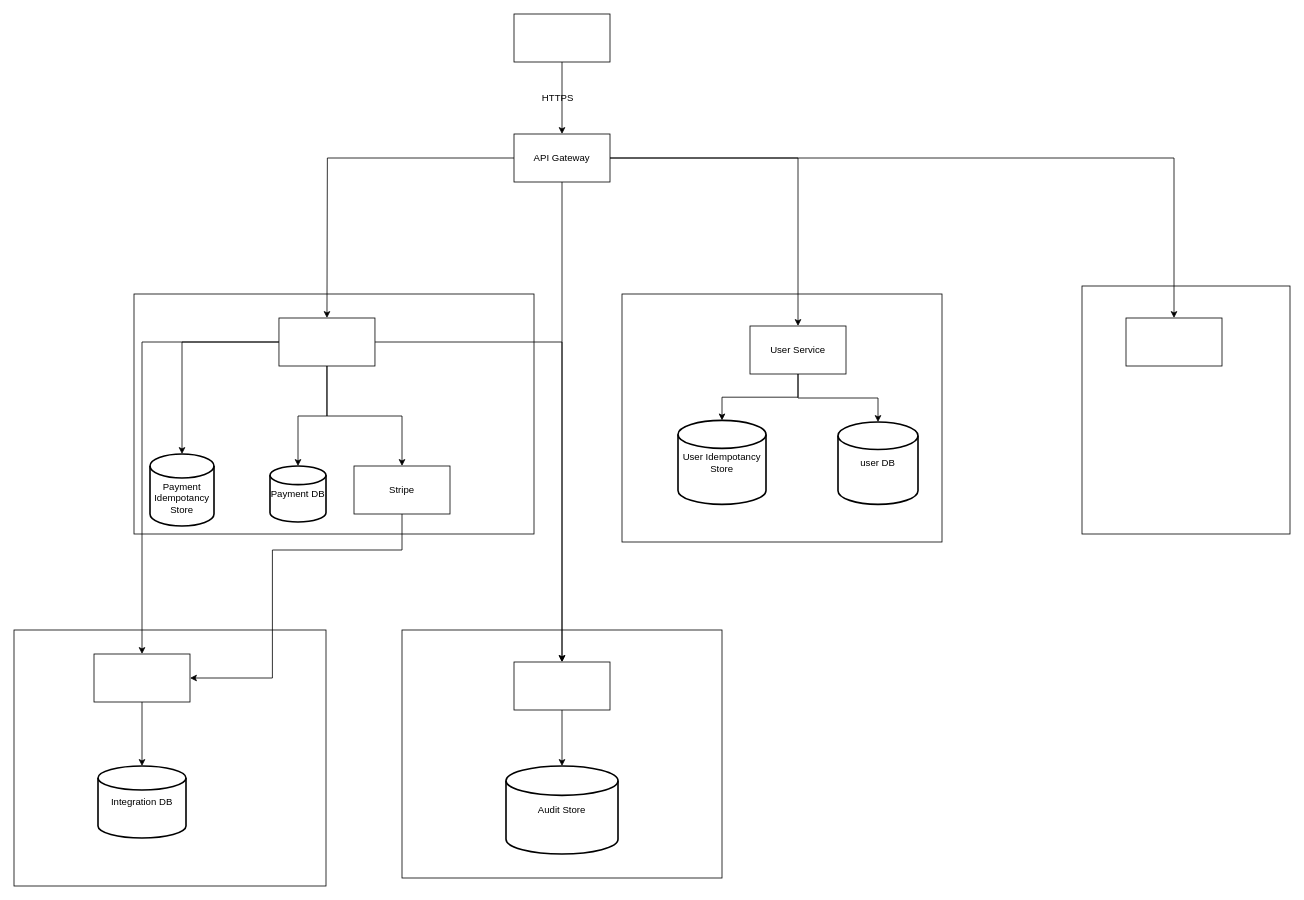
Image size: 1304x900. Some labels were removed from this diagram. The shapes that lost their labels are listed below. From the top down, each one's centre as x and y in pixels, then its label:
At (x=561, y=37): "Client".
At (x=326, y=341): "Payment Service".
At (x=1173, y=341): "Notification Service".
At (x=141, y=677): "Integration Service".
At (x=561, y=685): "Audit Service".
